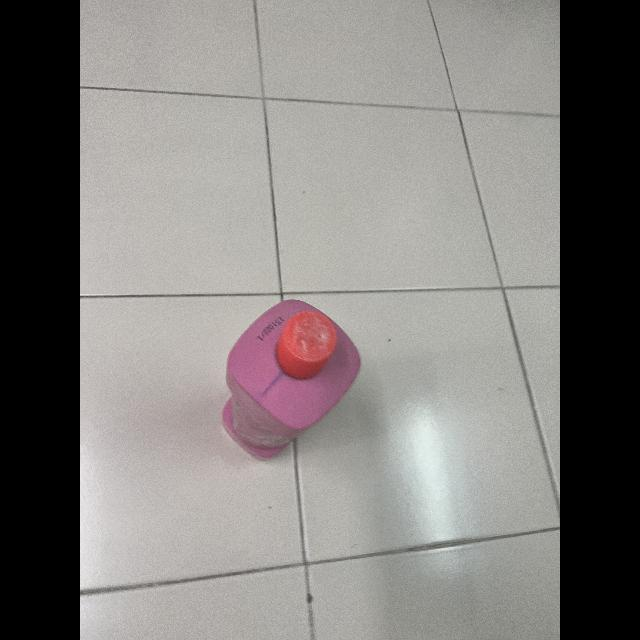chemical_plastic_bottle: (211, 290, 369, 468)
